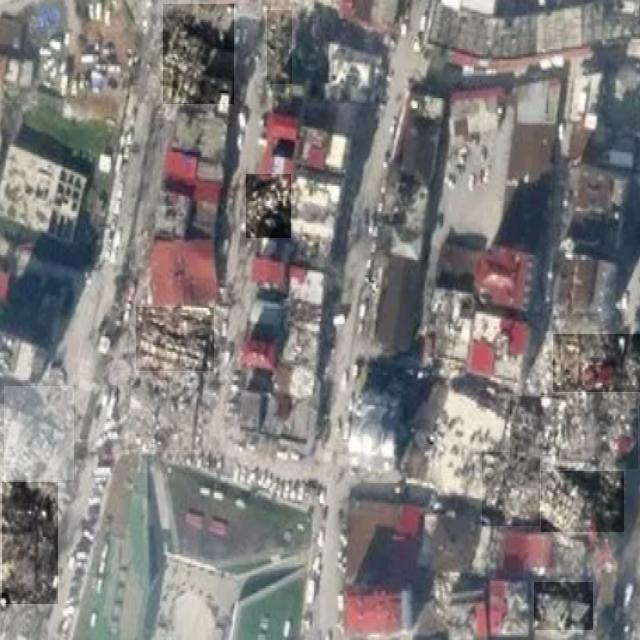Rubble: (163, 4, 234, 104), (1, 482, 58, 604), (117, 372, 203, 450), (4, 386, 74, 479), (558, 393, 638, 469), (541, 471, 624, 532), (553, 334, 640, 392), (136, 308, 214, 372), (482, 452, 540, 526), (510, 396, 559, 456), (246, 174, 291, 238), (534, 582, 593, 630), (267, 10, 292, 84)
